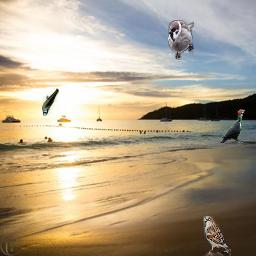Sparrow: (203, 216, 231, 256), (168, 20, 194, 60)
Swallow: (42, 88, 59, 116)
Woodpecker: (219, 109, 245, 143)
